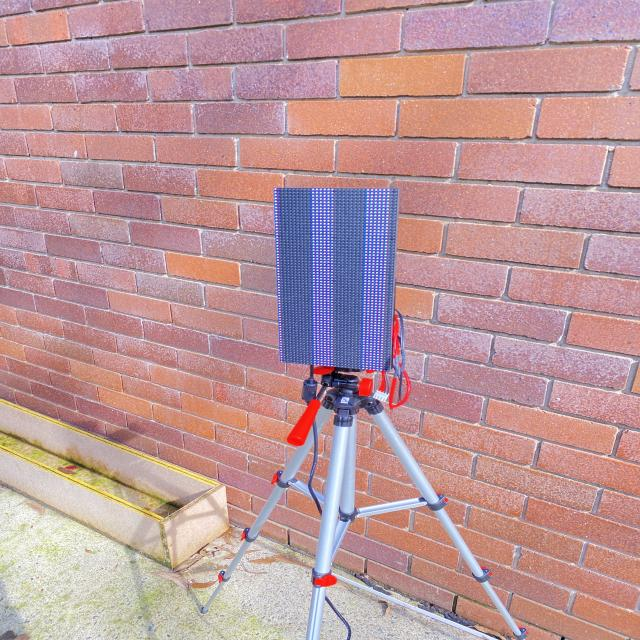matrix: (268, 183, 402, 374)
